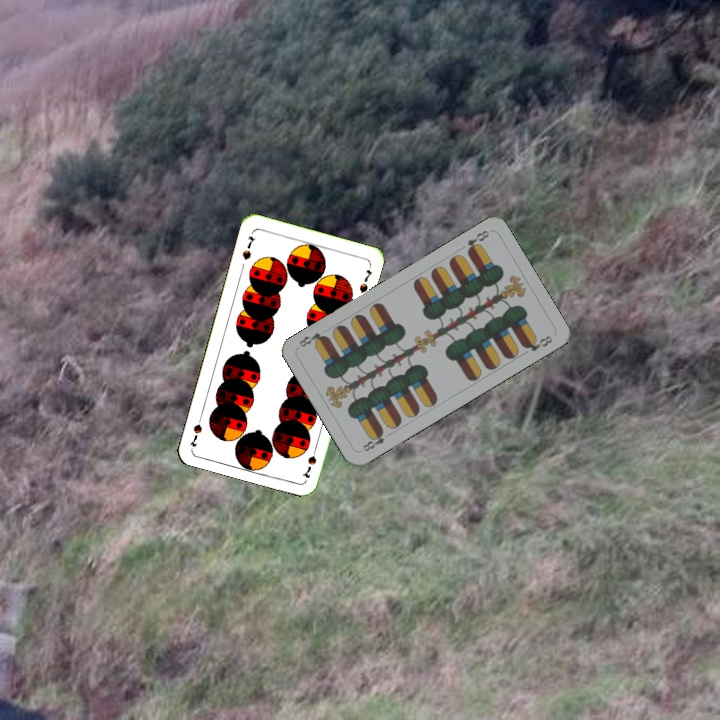E8: (463, 226, 492, 256), (357, 426, 388, 454)
S7: (299, 442, 320, 480), (238, 232, 258, 262)
